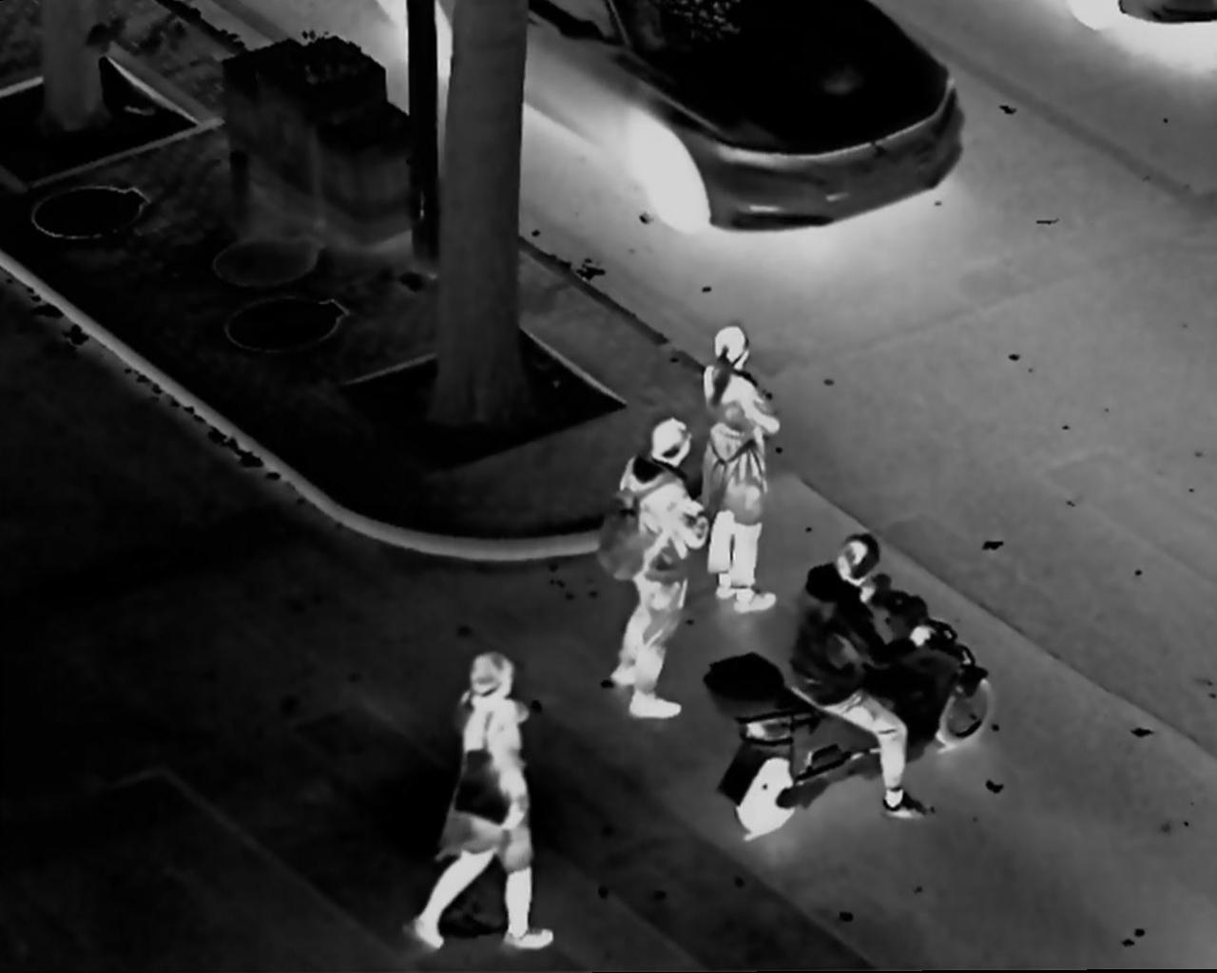person: (405, 649, 558, 954), (783, 528, 939, 827), (596, 416, 713, 725), (693, 321, 775, 620)
